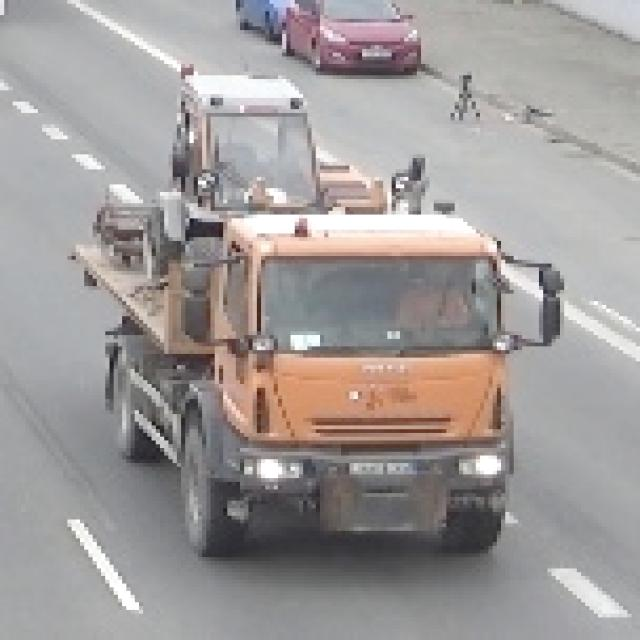truck: (60, 54, 561, 558)
